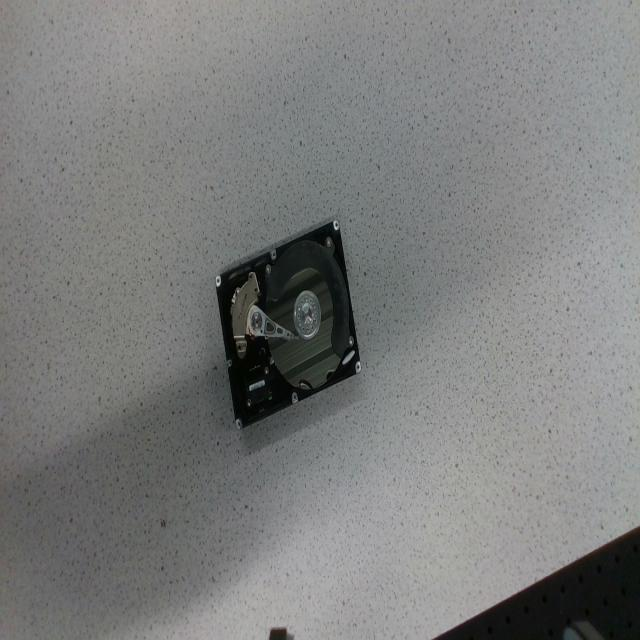actuator arm: (250, 307, 296, 339)
actuator axis: (250, 309, 262, 332)
case: (216, 220, 360, 428)
magnet: (230, 272, 260, 356)
pcb connector: (242, 362, 271, 406)
platter: (264, 270, 340, 388)
platter holder: (294, 291, 321, 340)
platter protector: (263, 239, 355, 357)
screw: (325, 236, 334, 248), (265, 264, 271, 276), (348, 335, 354, 346), (246, 398, 252, 406), (264, 366, 269, 374), (298, 320, 302, 327), (306, 327, 310, 333), (304, 296, 308, 302), (314, 318, 317, 325), (313, 302, 316, 308), (298, 305, 301, 311)
